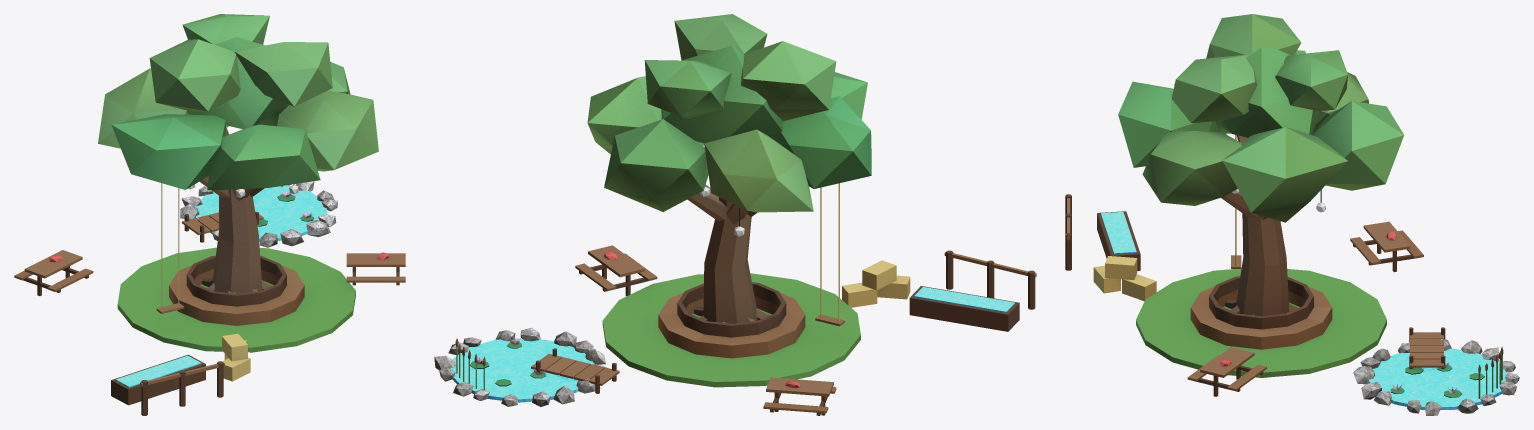
File: hub_green.fbx
The picture shows the model from 3 angles, left to right: view 1: azimuth 30°, elevation 25°; view 2: azimuth 150°, elevation 25°; view 3: azimuth 270°, elevation 25°; orthographic projection. The views are drawn at different scales.
Parts seen in each view (by area): view 1: hub_green_body; view 2: hub_green_body; view 3: hub_green_body.
Part boxes in pixels (<box>): hub_green_body: <box>14,14,405,415</box>; hub_green_body: <box>434,14,1036,415</box>; hub_green_body: <box>1065,14,1519,415</box>.
Size of the model in its own units: 3891 by 2856 by 3983.
Materials: 2 (1 with a texture image).
